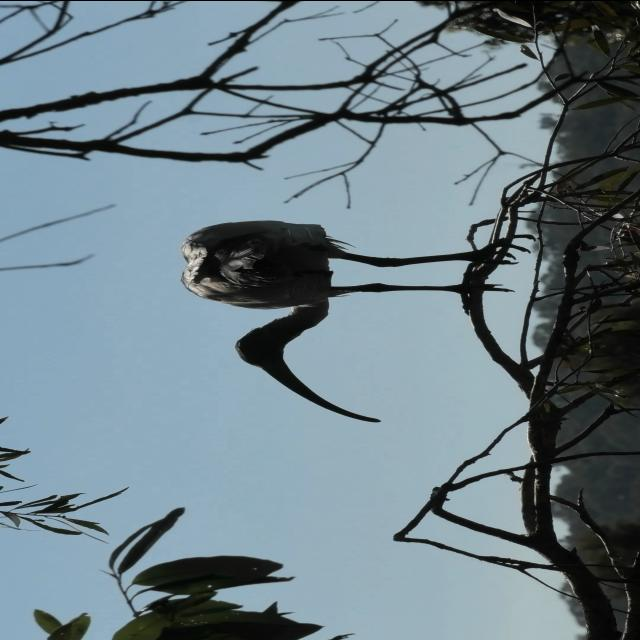Birds-Ibis: (172, 216, 538, 424)
